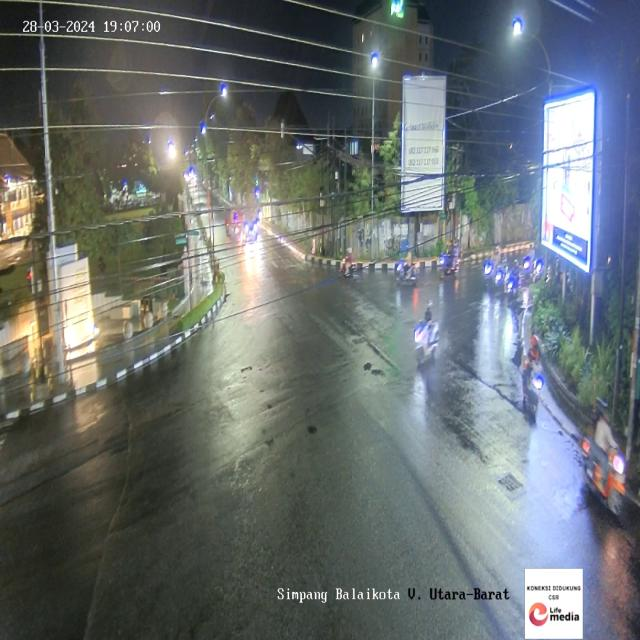motorcycle: (577, 406, 627, 516), (523, 334, 544, 417), (414, 300, 438, 370), (441, 237, 463, 283), (397, 246, 418, 285), (508, 255, 521, 302), (485, 244, 499, 281), (496, 252, 508, 291), (341, 245, 356, 276), (523, 243, 534, 283)
